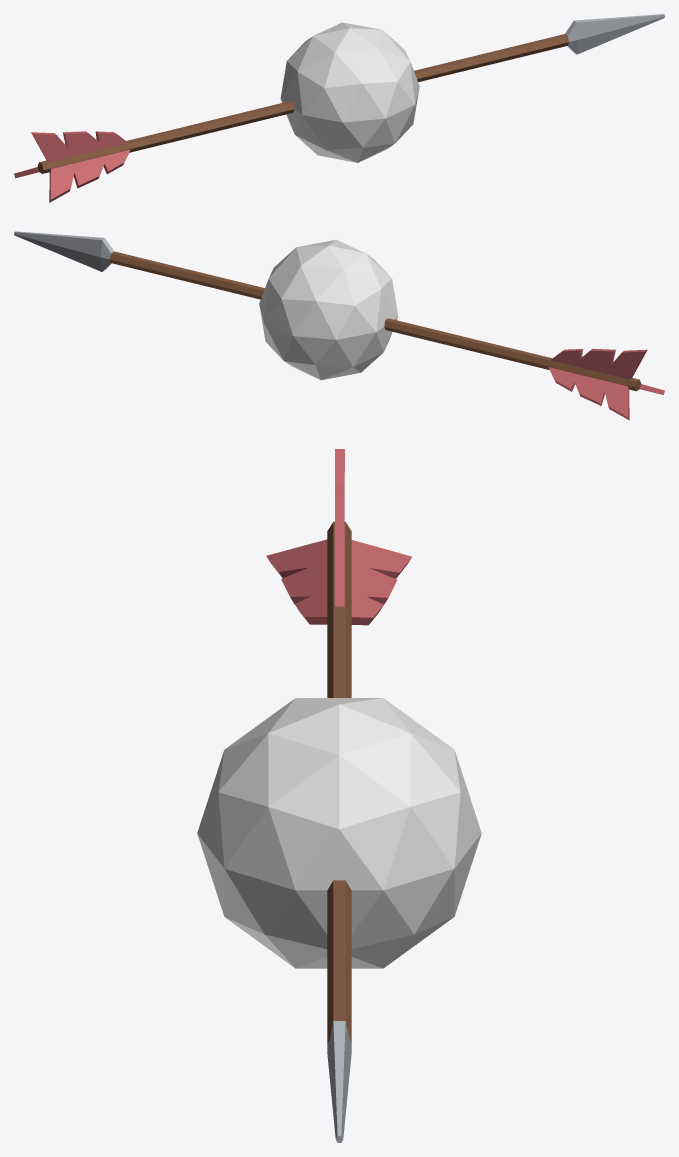
The model's file is Arrow.glb.
The picture shows the model from 3 angles, top to bottom: view 1: azimuth 30°, elevation 25°; view 2: azimuth 150°, elevation 25°; view 3: azimuth 270°, elevation 25°; orthographic projection. The views are drawn at different scales.
Visible parts, largest first — view 1: Icosphere, Arrow; view 2: Icosphere, Arrow; view 3: Icosphere, Arrow.
Boxes of the visible parts, x1,y1,x2,y2 form: Icosphere: (280,22,419,162); Arrow: (14,14,664,202); Icosphere: (259,239,398,380); Arrow: (14,231,664,420); Icosphere: (197,698,481,968); Arrow: (266,449,411,1142).
Size of the model in its own units: 2.05 by 0.4 by 0.4.
